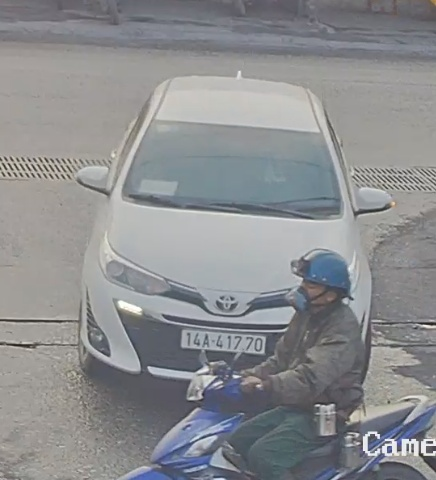vehicle plate: (178, 321, 273, 357)
